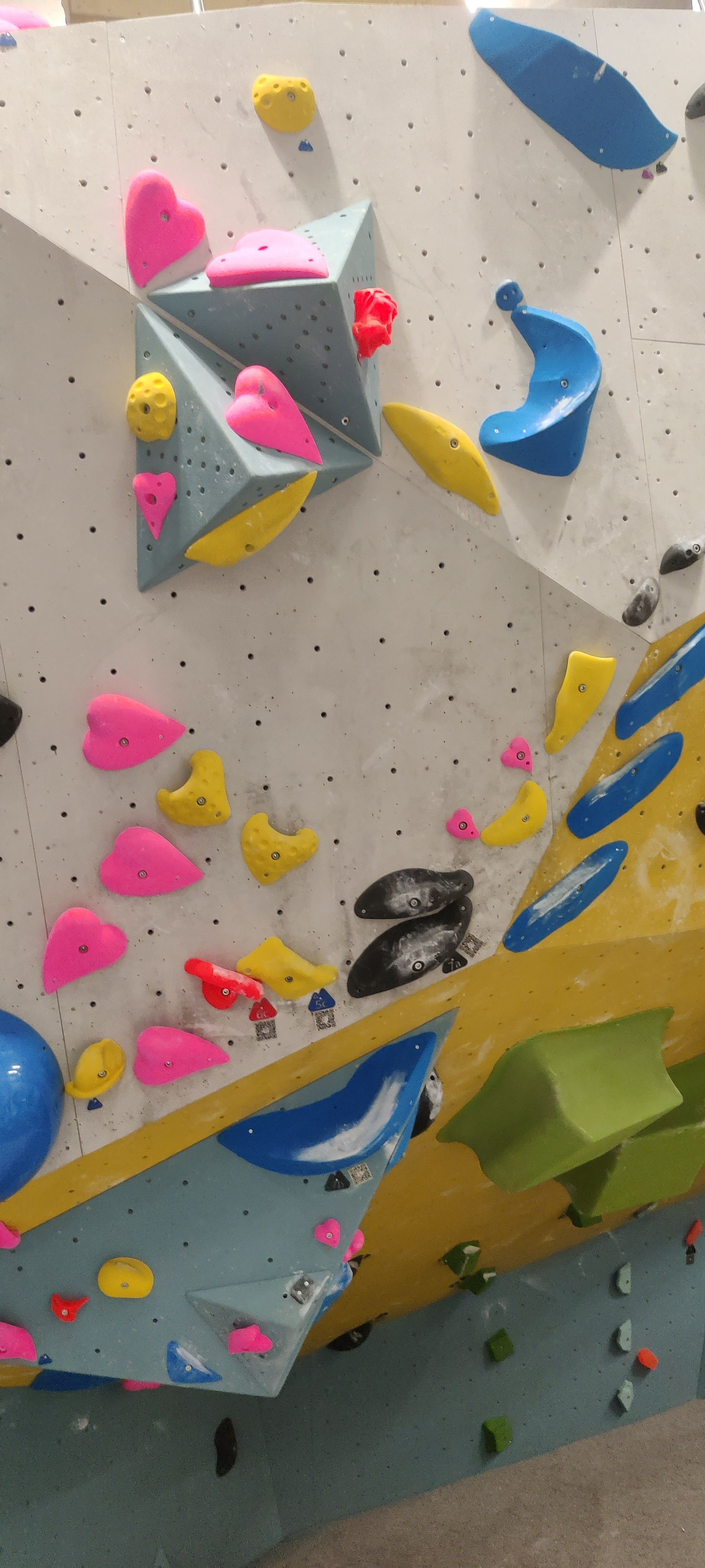hold: (438, 1008, 681, 1192), (220, 1030, 438, 1176), (470, 12, 672, 167), (555, 1054, 705, 1214), (480, 306, 600, 472), (383, 403, 500, 515), (348, 897, 472, 997), (506, 843, 624, 947), (568, 735, 682, 838), (2, 1012, 63, 1200), (186, 475, 313, 563), (615, 624, 705, 740), (228, 365, 320, 463), (125, 173, 203, 287), (83, 695, 183, 769), (545, 651, 616, 753), (43, 906, 125, 987), (103, 828, 200, 896), (208, 230, 328, 284), (237, 938, 337, 1000), (354, 867, 472, 918), (157, 750, 230, 826), (134, 1026, 225, 1083), (242, 813, 318, 879), (482, 784, 546, 840), (186, 960, 259, 1007), (254, 76, 313, 132), (127, 372, 173, 438), (352, 289, 396, 358), (68, 1041, 125, 1094), (386, 1091, 422, 1173), (134, 472, 173, 536), (166, 1342, 220, 1384), (100, 1257, 154, 1298), (410, 1070, 442, 1138), (32, 1368, 118, 1392), (318, 1263, 353, 1318), (623, 577, 660, 626), (0, 1320, 36, 1359), (328, 1321, 373, 1352), (660, 541, 702, 573), (215, 1418, 237, 1475), (0, 1360, 40, 1388), (230, 1325, 271, 1350), (443, 1241, 477, 1271), (458, 1268, 496, 1294), (2, 7, 46, 29), (502, 737, 531, 769), (447, 808, 477, 838), (566, 1202, 602, 1227), (2, 693, 20, 742), (484, 1418, 509, 1453), (495, 281, 523, 311), (487, 1330, 514, 1359), (53, 1296, 85, 1320), (288, 1276, 313, 1301), (616, 1379, 633, 1411), (617, 1320, 634, 1350), (316, 1220, 340, 1241), (0, 1222, 17, 1249), (614, 1264, 631, 1290), (347, 1230, 362, 1259), (688, 88, 702, 115), (688, 1220, 702, 1247), (636, 1347, 653, 1369), (122, 1379, 152, 1388)
volume: (0, 1013, 457, 1401), (138, 305, 375, 593), (145, 202, 382, 458)
